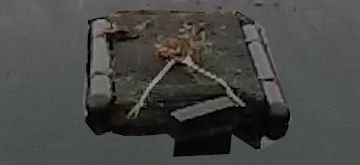bag: (82, 7, 297, 160)
